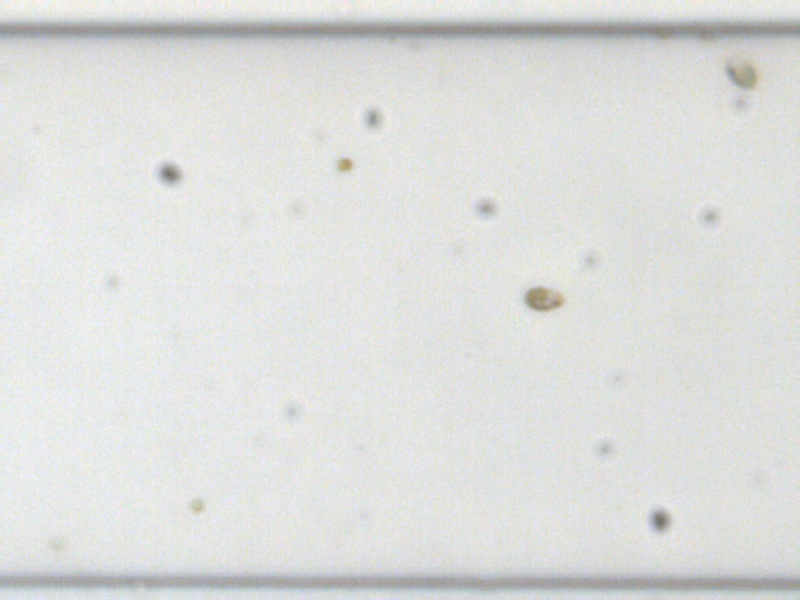Chlorella: (187, 494, 206, 515), (333, 155, 354, 173)
Dunaliella salina: (725, 52, 761, 92), (523, 285, 568, 309)
